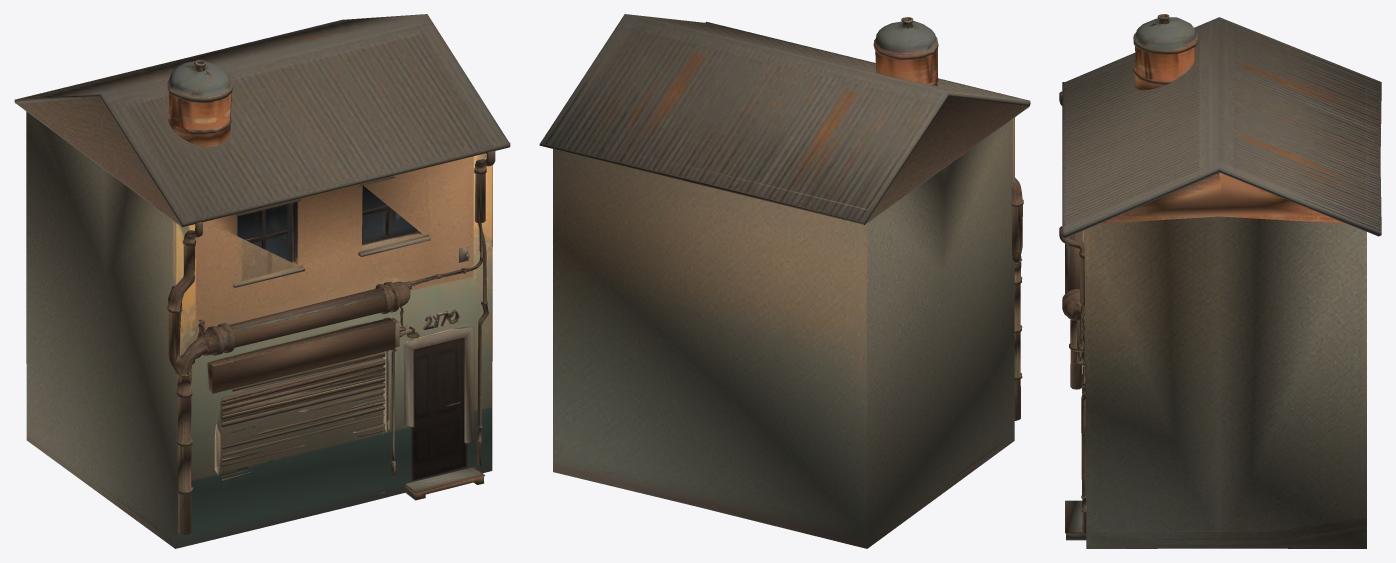
The picture shows the model from 3 angles, left to right: view 1: azimuth 30°, elevation 25°; view 2: azimuth 150°, elevation 25°; view 3: azimuth 270°, elevation 25°; orthographic projection. The views are drawn at different scales.
Size of the model in its own units: 0.7466 by 0.9502 by 0.6651.
Materials: 1 (1 with a texture image).
